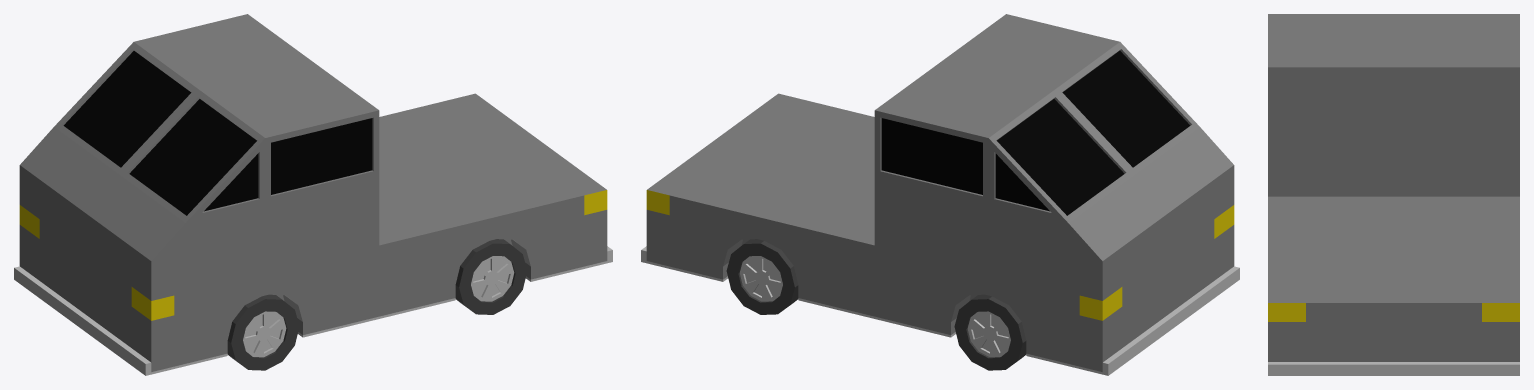
Rendered from flatbed.fbx.
The picture shows the model from 3 angles, left to right: view 1: azimuth 30°, elevation 25°; view 2: azimuth 150°, elevation 25°; view 3: azimuth 270°, elevation 25°; orthographic projection. The views are drawn at different scales.
Parts seen in each view (by area): view 1: truck_body, truck_windows, truck_base, tire_front_left, tire_back_left, truck_lights, wheel_front_left, wheel_back_left, truck_wheel_indent; view 2: truck_body, truck_windows, truck_base, tire_front_right, tire_back_right, truck_lights, wheel_front_right, wheel_back_right, truck_wheel_indent; view 3: truck_body, truck_base, truck_lights.
Boxes of the visible parts, x1=… form: truck_body: x1=19, y1=14, x2=607, y2=371; truck_windows: x1=63, y1=51, x2=372, y2=215; truck_base: x1=14, y1=246, x2=612, y2=375; tire_front_left: x1=227, y1=294, x2=299, y2=370; tire_back_left: x1=455, y1=239, x2=527, y2=314; truck_lights: x1=19, y1=190, x2=607, y2=320; wheel_front_left: x1=243, y1=311, x2=286, y2=357; wheel_back_left: x1=471, y1=256, x2=514, y2=301; truck_wheel_indent: x1=276, y1=239, x2=530, y2=334; truck_body: x1=646, y1=14, x2=1234, y2=371; truck_windows: x1=881, y1=51, x2=1190, y2=215; truck_base: x1=641, y1=246, x2=1239, y2=375; tire_front_right: x1=954, y1=294, x2=1026, y2=370; tire_back_right: x1=726, y1=239, x2=798, y2=314; truck_lights: x1=646, y1=190, x2=1234, y2=320; wheel_front_right: x1=967, y1=311, x2=1010, y2=357; wheel_back_right: x1=739, y1=256, x2=782, y2=301; truck_wheel_indent: x1=723, y1=239, x2=977, y2=334; truck_body: x1=1268, y1=14, x2=1519, y2=361; truck_base: x1=1268, y1=362, x2=1519, y2=375; truck_lights: x1=1268, y1=303, x2=1519, y2=321.
Size of the model in its own units: 1025 by 487 by 500.
